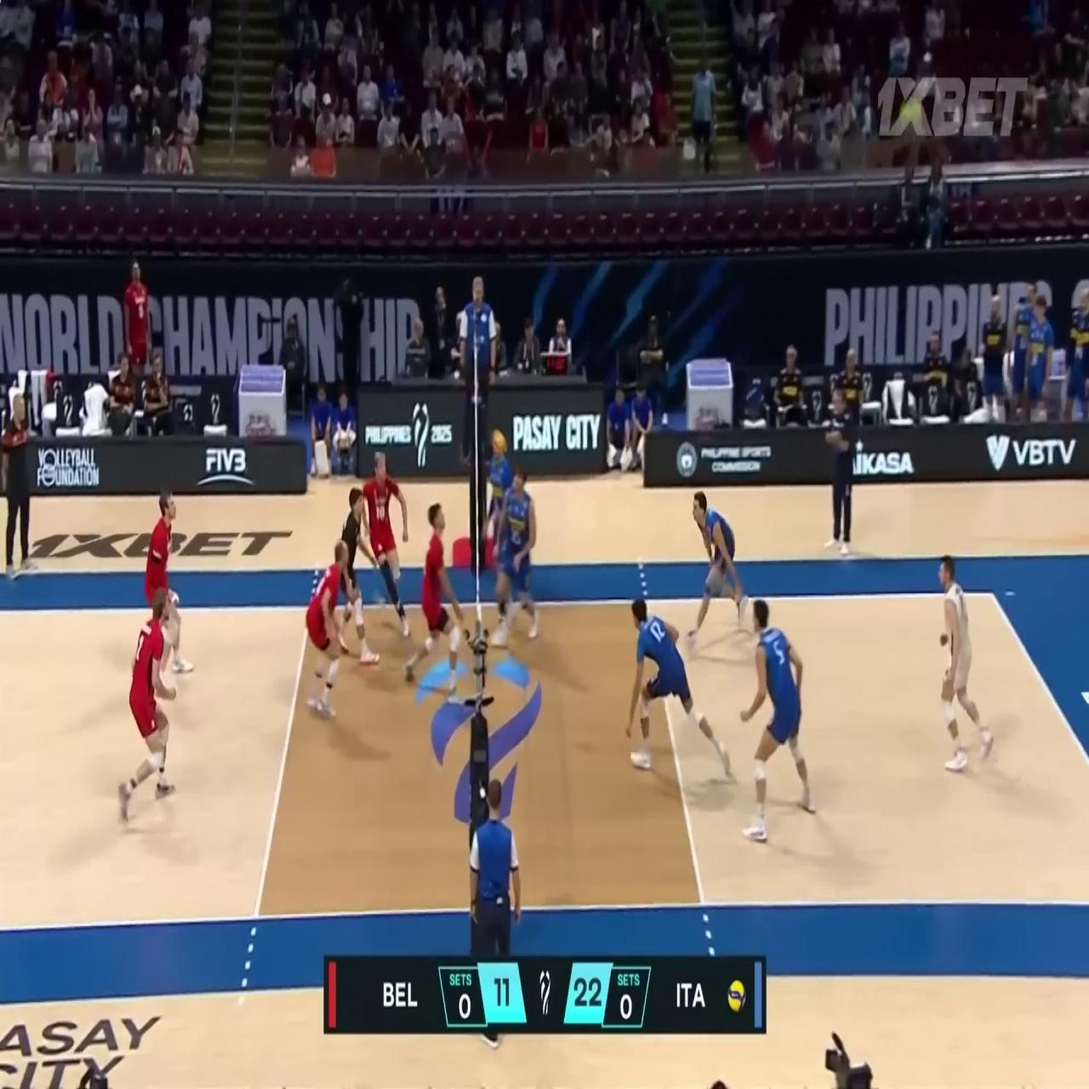ball: (492, 428, 506, 459)
